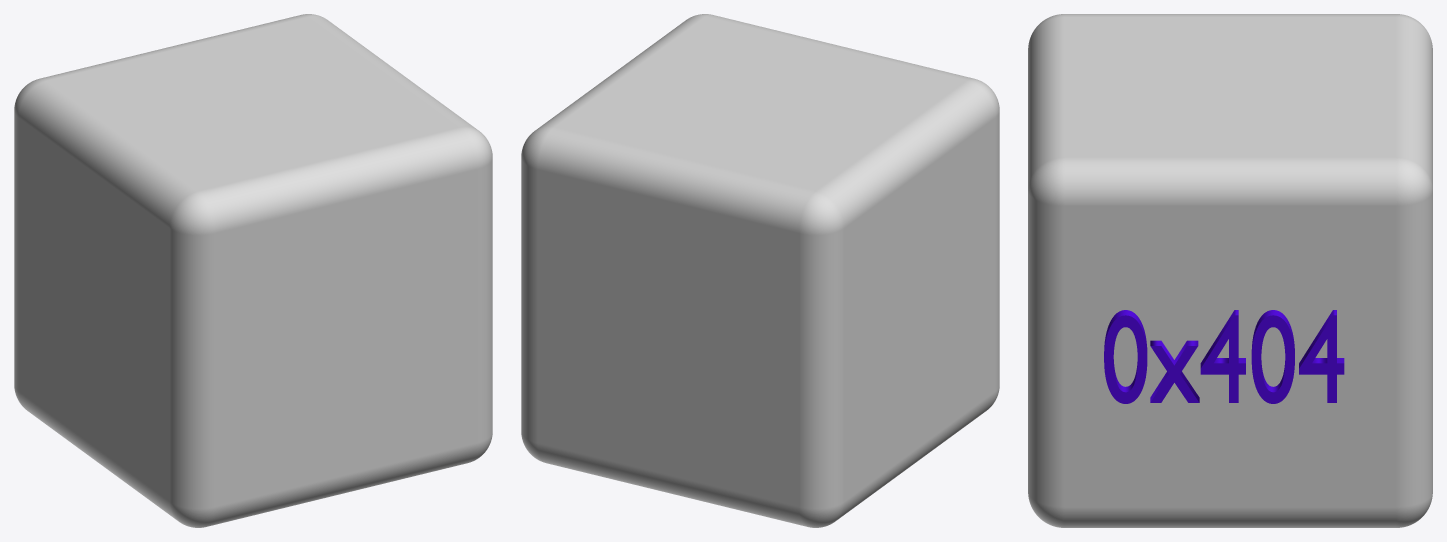
The model's file is Instr41.fbx.
The picture shows the model from 3 angles, left to right: view 1: azimuth 30°, elevation 25°; view 2: azimuth 150°, elevation 25°; view 3: azimuth 270°, elevation 25°; orthographic projection. The views are drawn at different scales.
Visible parts, largest first — view 1: Cube; view 2: Cube; view 3: Cube, Text.
Boxes of the visible parts, bbox=[...] form: Cube: bbox=[14, 14, 492, 527]; Cube: bbox=[521, 14, 999, 527]; Cube: bbox=[1028, 14, 1432, 527]; Text: bbox=[1104, 310, 1344, 403].
Size of the model in its own units: 69.29 by 67.15 by 67.15.
